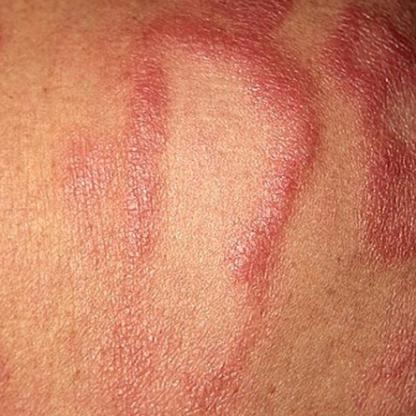Leprosy: (56, 0, 325, 412), (335, 2, 415, 280)
